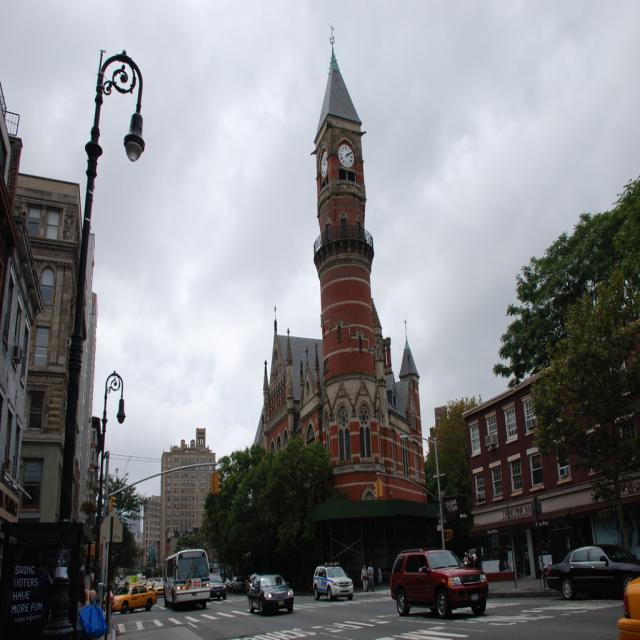car: (394, 554, 487, 625), (246, 572, 295, 614), (311, 563, 351, 597)
